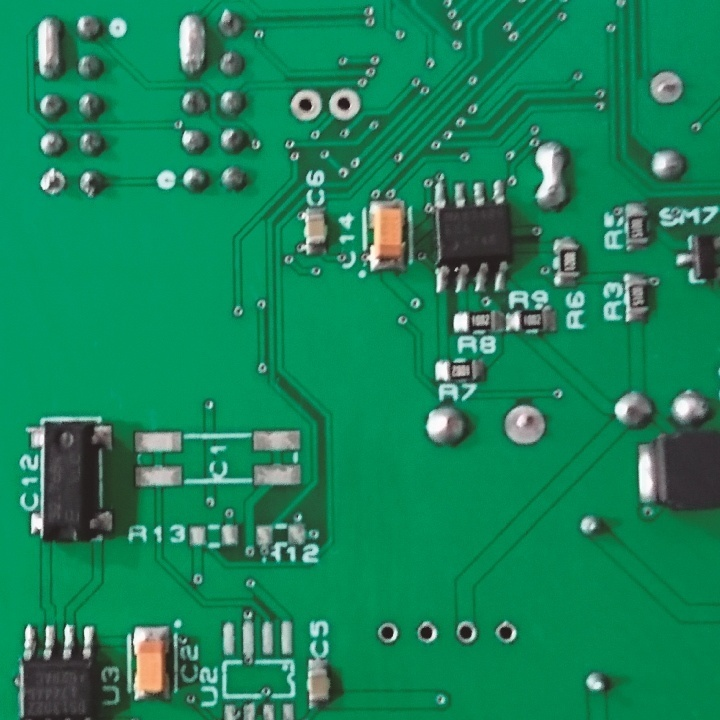F: (501, 401, 546, 449), (647, 67, 687, 110), (287, 86, 324, 123), (328, 83, 361, 122), (38, 165, 67, 199), (451, 618, 479, 648), (413, 618, 440, 646), (490, 617, 515, 645), (376, 621, 400, 645)
P: (530, 138, 572, 215), (32, 13, 65, 82), (175, 10, 207, 78)
